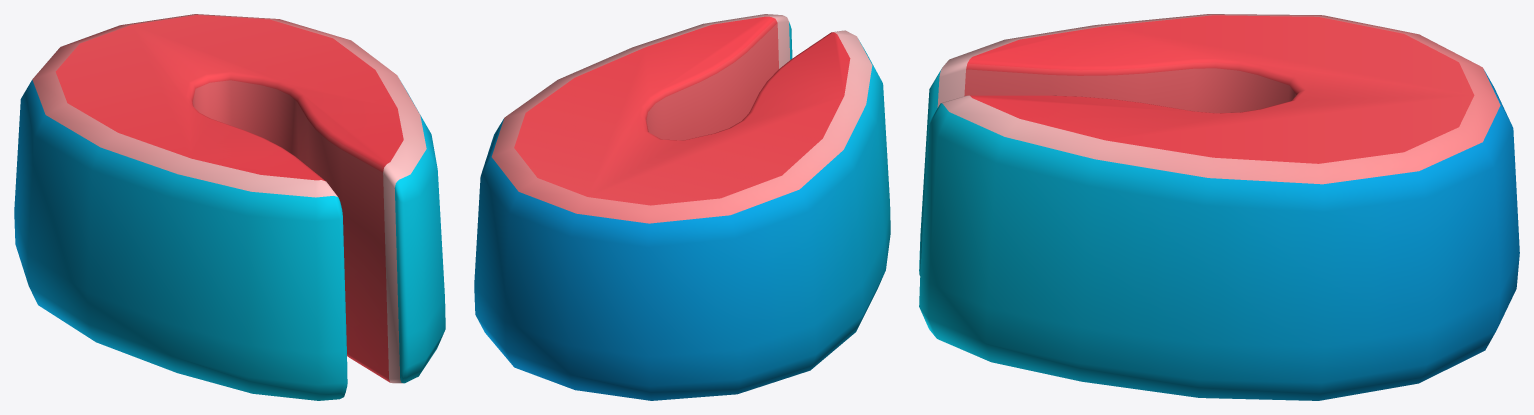
The model's file is Fish_V1_02.fbx.
The picture shows the model from 3 angles, left to right: view 1: azimuth 30°, elevation 25°; view 2: azimuth 150°, elevation 25°; view 3: azimuth 270°, elevation 25°; orthographic projection. The views are drawn at different scales.
Parts seen in each view (by area): view 1: Fish_V1_02; view 2: Fish_V1_02; view 3: Fish_V1_02.
Part boxes in pixels (x1,y1,x2,y2): Fish_V1_02: [14, 14, 445, 400]; Fish_V1_02: [474, 14, 890, 400]; Fish_V1_02: [919, 14, 1519, 400].
Bounding box in the file's own units: 42.71 × 25.72 × 57.64.
